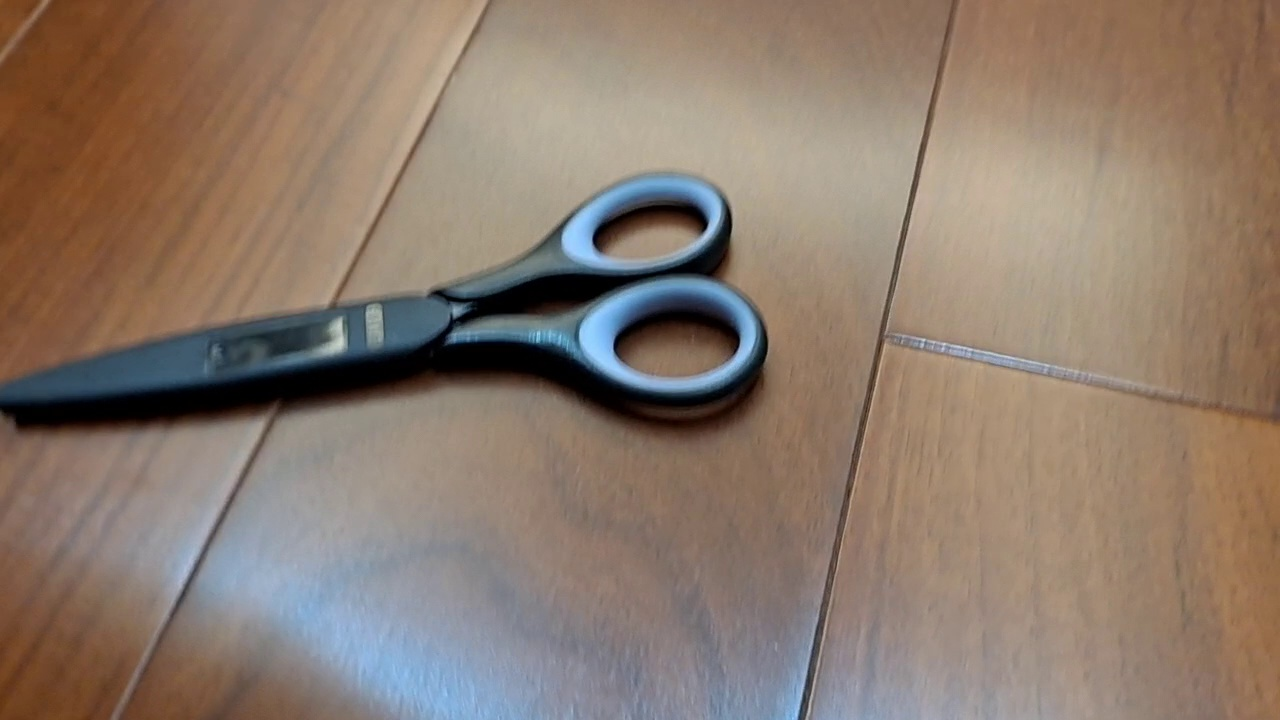scissors: (1, 167, 770, 433)
